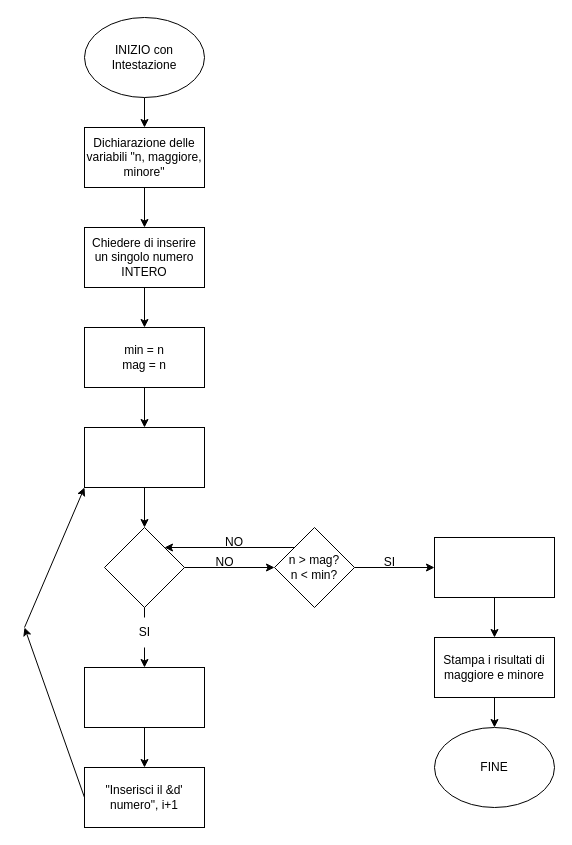
Image size: 572x845. Some labels were removed from this diagram. Here are the shapes that lost their labels. From the top down, the centre of each, then its label:
the point at 144,457: int i = 1
the point at 144,567: i < 8?
the point at 494,567: mag = n min = n
the point at 144,697: i++
